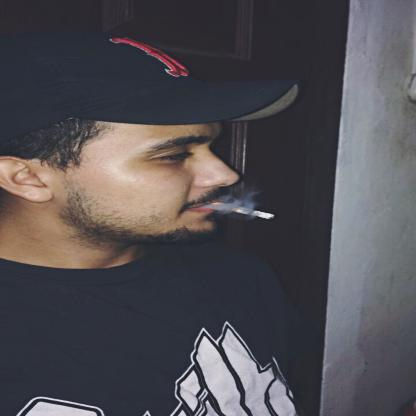smoking: (204, 200, 274, 219)
